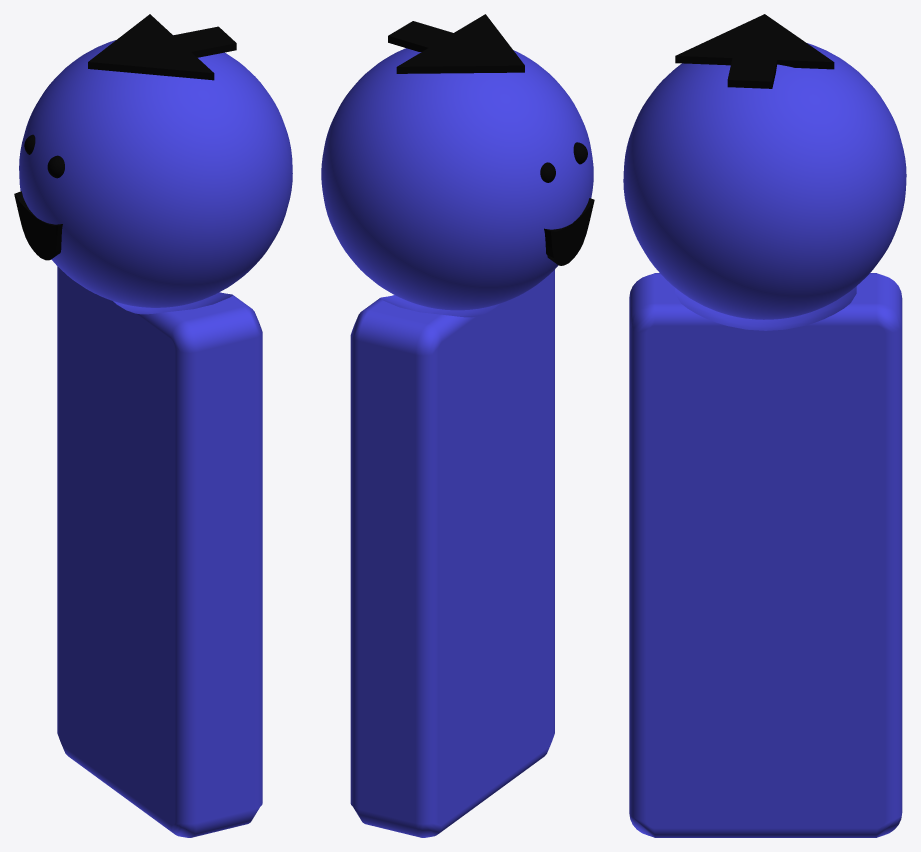
File: purple_happy.obj
The picture shows the model from 3 angles, left to right: view 1: azimuth 30°, elevation 25°; view 2: azimuth 150°, elevation 25°; view 3: azimuth 270°, elevation 25°; orthographic projection. The views are drawn at different scales.
Visible parts, largest first — view 1: 1_Curve.002_Curve.004, 5.002_Curve.002_Curve.003_5.002_Curve.002_Curve.004; view 2: 1_Curve.002_Curve.004, 5.002_Curve.002_Curve.003_5.002_Curve.002_Curve.004; view 3: 1_Curve.002_Curve.004, 5.002_Curve.002_Curve.003_5.002_Curve.002_Curve.004.
Boxes of the visible parts, x1,y1,x2,y2 form: 1_Curve.002_Curve.004: (19,35,292,837); 5.002_Curve.002_Curve.003_5.002_Curve.002_Curve.004: (14,14,236,260); 1_Curve.002_Curve.004: (321,48,593,837); 5.002_Curve.002_Curve.003_5.002_Curve.002_Curve.004: (388,14,594,265); 1_Curve.002_Curve.004: (623,43,906,837); 5.002_Curve.002_Curve.003_5.002_Curve.002_Curve.004: (675,14,834,88).
Bounding box in the file's own units: 0.1662 × 0.4993 × 0.1661.
